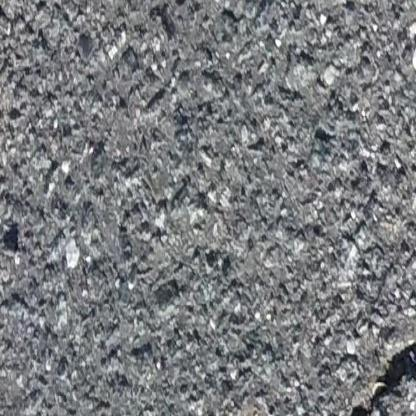Cracks: (335, 338, 416, 416)
